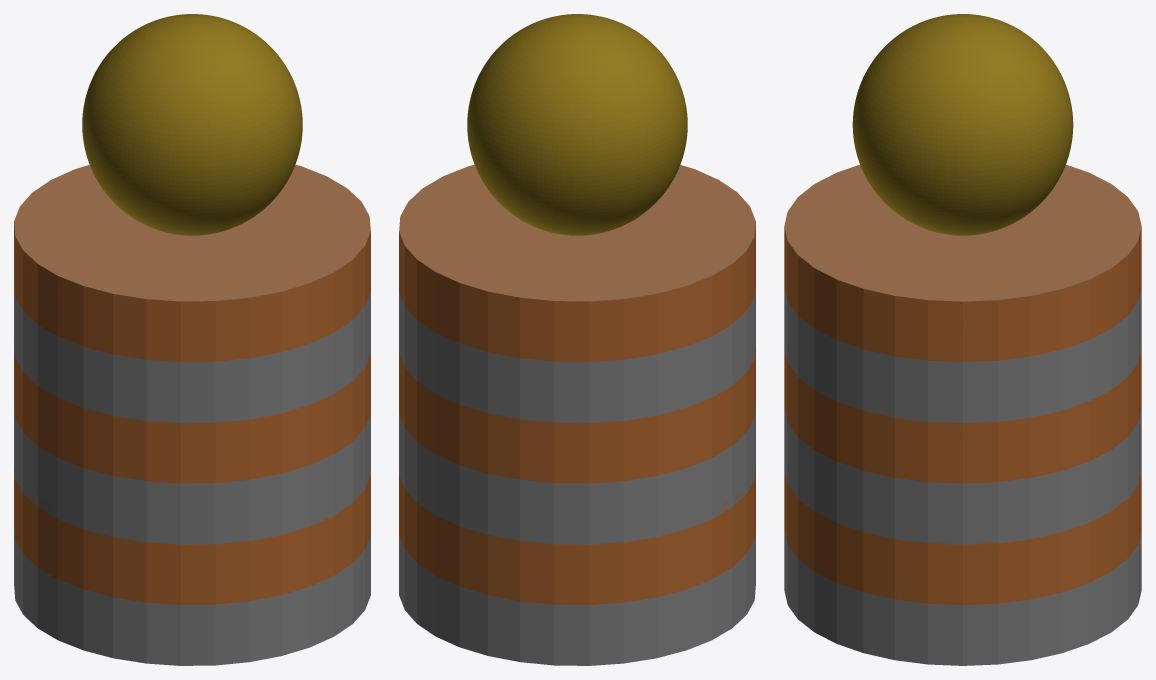
The model's file is BOD5_BMC3_BCC0_BPT2_FRC0_HEA0_HMC4_HCC0_HPT0_ELT0_ERT0_ELL0_ERL0_AP0_AAL0_AAR0_BEK0.fbx.
3 views of the same model, side by side, from view 1: azimuth 30°, elevation 25°; view 2: azimuth 150°, elevation 25°; view 3: azimuth 270°, elevation 25° (orthographic).
Visible parts, largest first — view 1: Body, Head; view 2: Body, Head; view 3: Body, Head.
Boxes of the visible parts, x1,y1,x2,y2 form: Body: (14, 164, 370, 665); Head: (82, 14, 302, 235); Body: (399, 164, 755, 665); Head: (467, 14, 687, 235); Body: (784, 164, 1141, 665); Head: (852, 14, 1073, 235).
Size of the model in its own units: 80 by 140 by 80.
2 materials, 2 textured.
